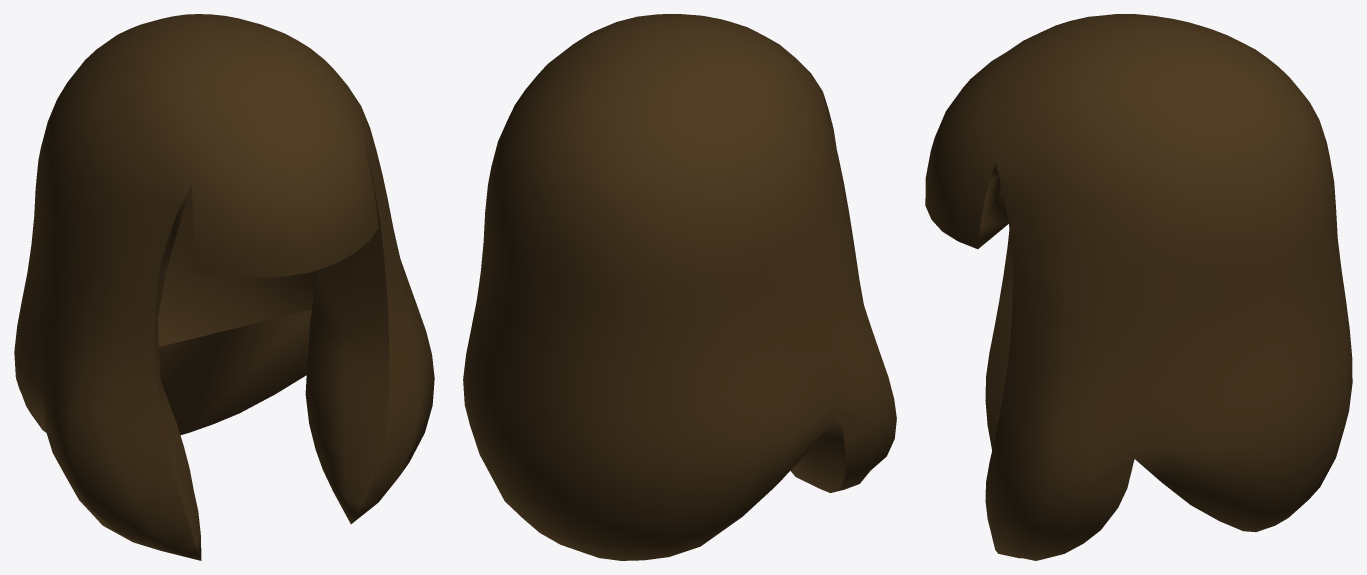
File: hair_027.gltf
3 views of the same model, side by side, from view 1: azimuth 30°, elevation 25°; view 2: azimuth 150°, elevation 25°; view 3: azimuth 270°, elevation 25° (orthographic). The views are drawn at different scales.
Visible parts, largest first — view 1: hair.134; view 2: hair.134; view 3: hair.134.
Boxes of the visible parts, bbox=[...] form: hair.134: bbox=[14, 14, 434, 560]; hair.134: bbox=[463, 14, 896, 560]; hair.134: bbox=[925, 14, 1352, 560].
Bounding box in the file's own units: 0.1352 × 0.1641 × 0.1316.
